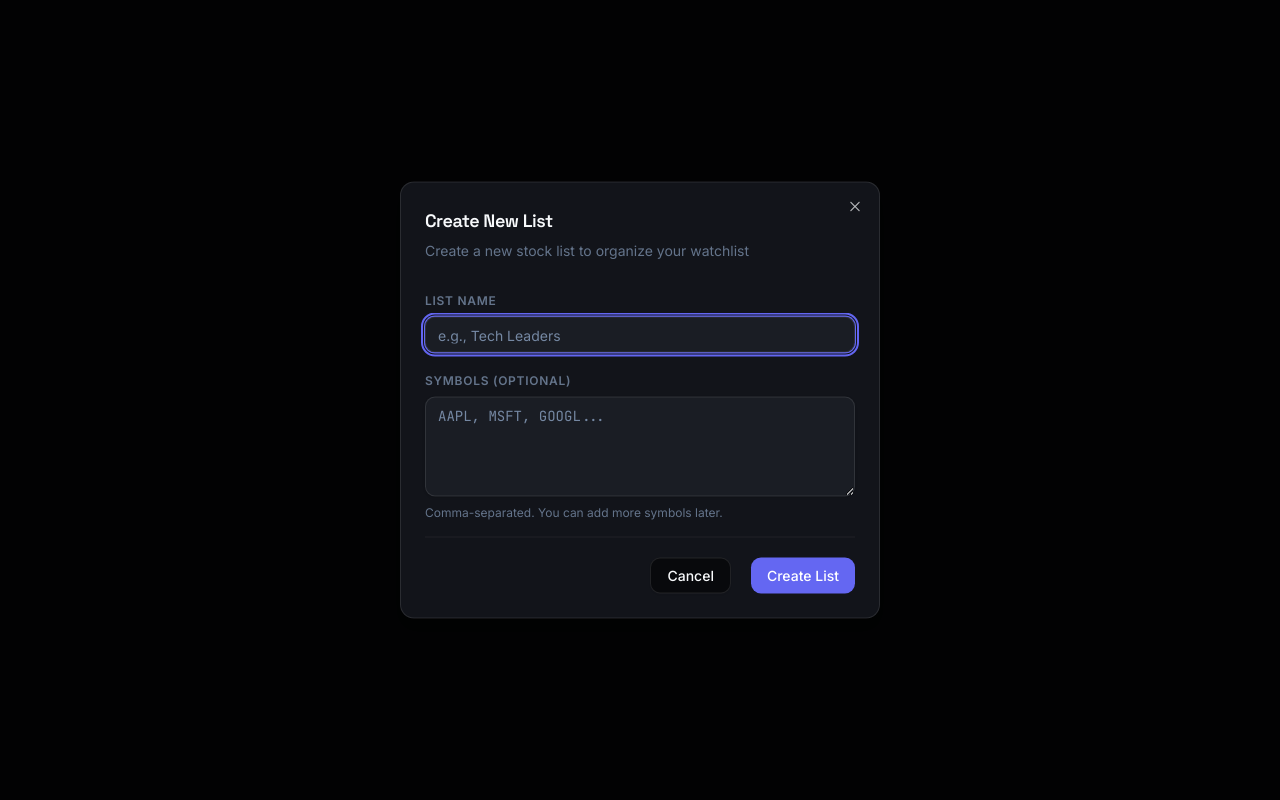
Test case: CreateListDialog › Validation › shows error when name is empty
This screenshot has width=1280, height=800.
Click the button "Create List": (803, 576) [751,558,855,594]
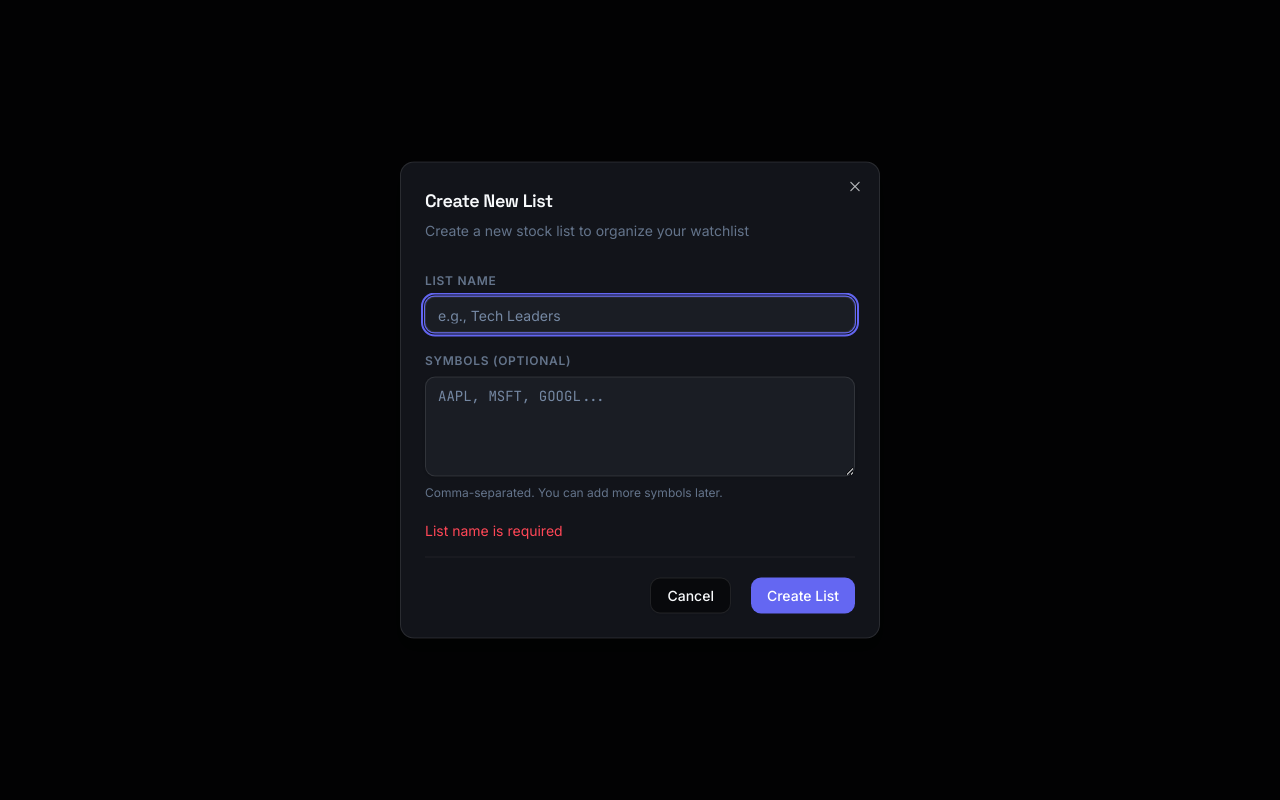
Check: the text "List name is required" is shown, box [425,522,563,538]
